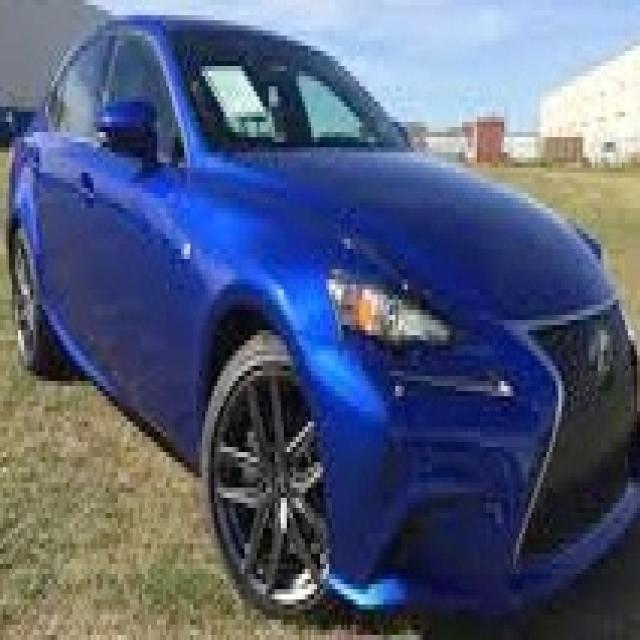blue: (3, 15, 640, 620)
